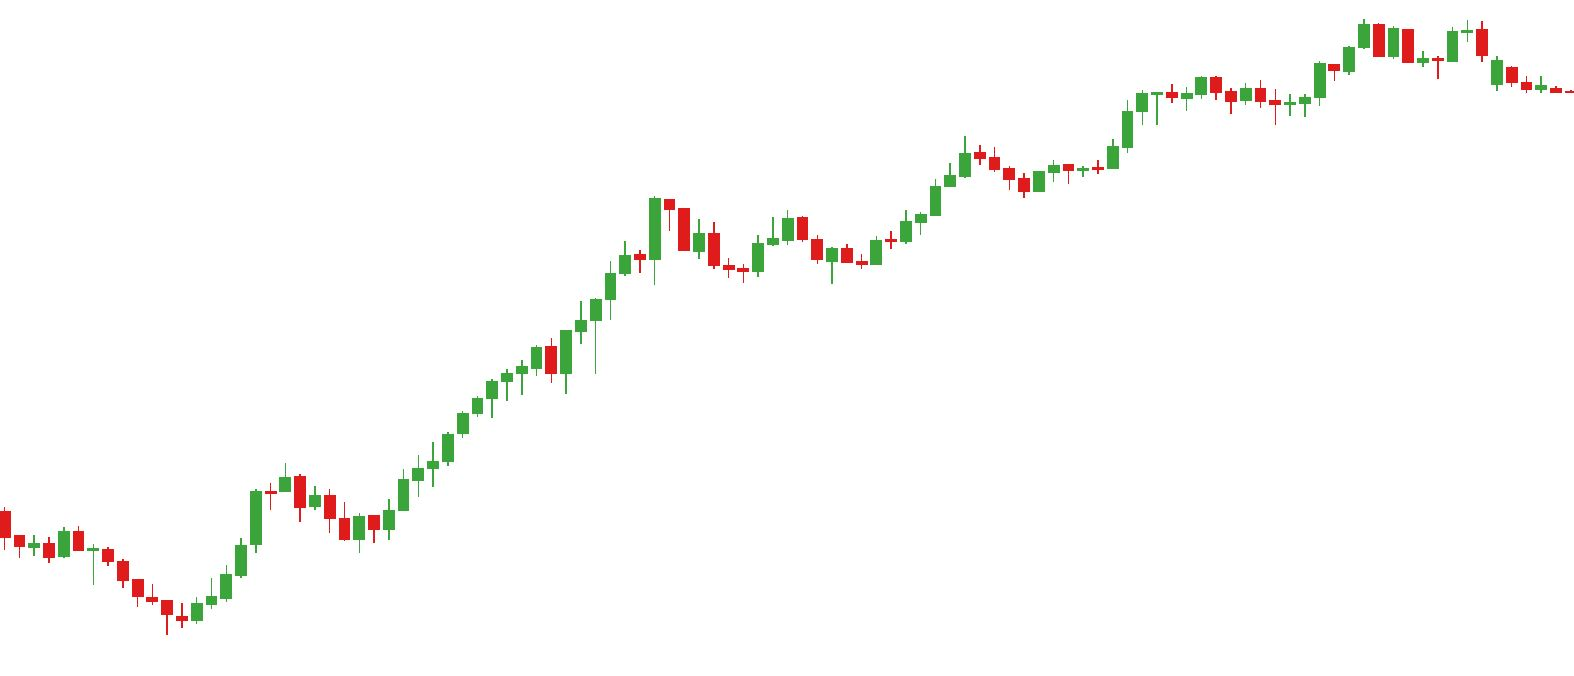buy: (751, 229, 840, 289)
